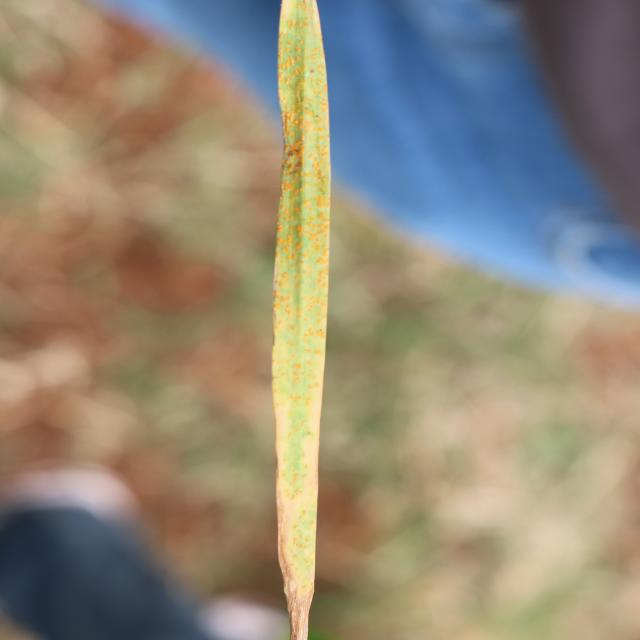Stripe Rust: (282, 1, 312, 586), (290, 594, 306, 636)
